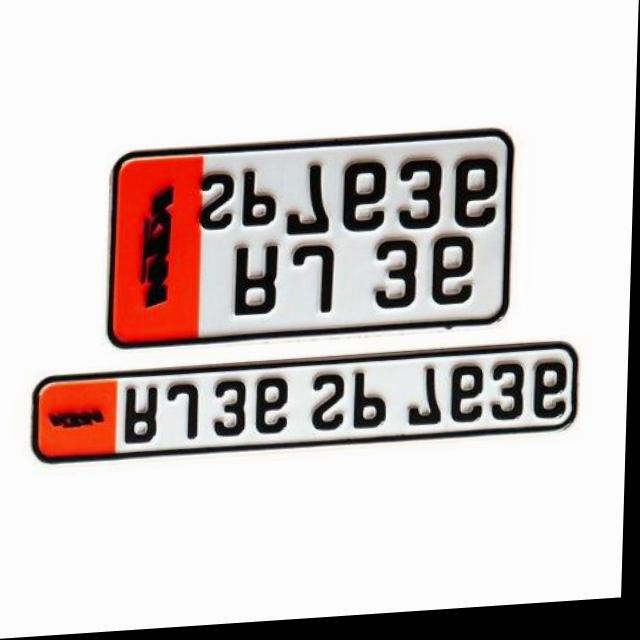3: (398, 163, 445, 234), (376, 246, 420, 311), (209, 382, 251, 440), (492, 367, 525, 426)
6: (343, 161, 391, 240), (455, 159, 502, 233), (435, 243, 478, 307), (452, 368, 492, 427), (256, 380, 294, 438), (535, 367, 571, 422)
7: (289, 169, 332, 239), (408, 370, 446, 436)
j: (290, 246, 341, 321), (167, 382, 205, 442)
p: (351, 371, 390, 435), (244, 172, 276, 225)
r: (226, 246, 288, 320), (121, 386, 161, 445)
s: (199, 172, 235, 234), (313, 376, 349, 437)
